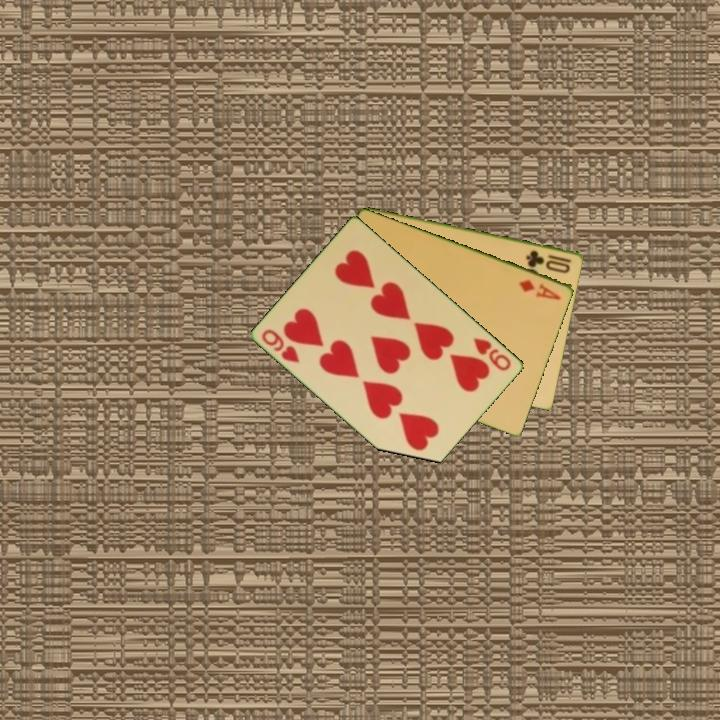10c: (523, 246, 575, 276)
9h: (259, 325, 303, 366), (470, 334, 514, 374)
Ad: (516, 276, 564, 303)
